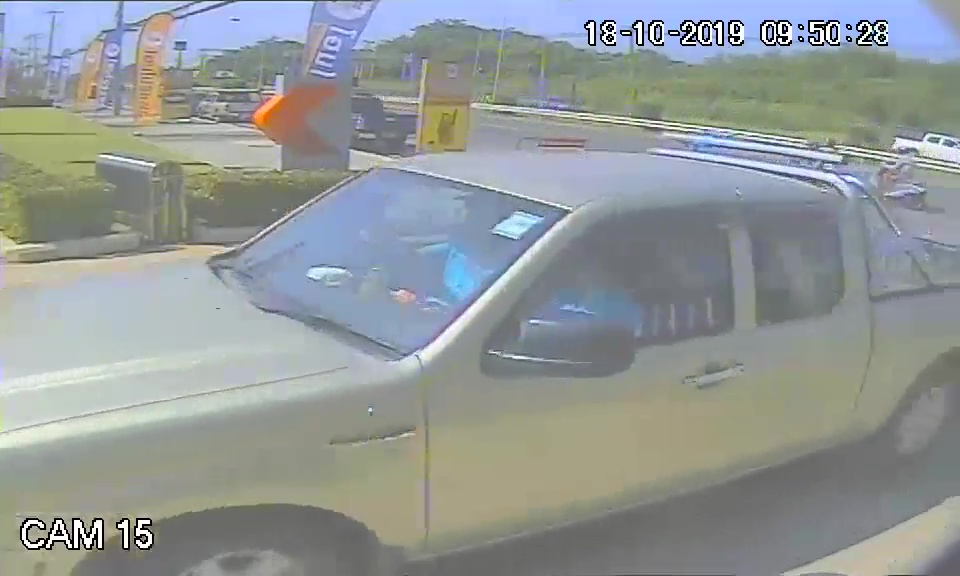pickup: (1, 146, 957, 515)
